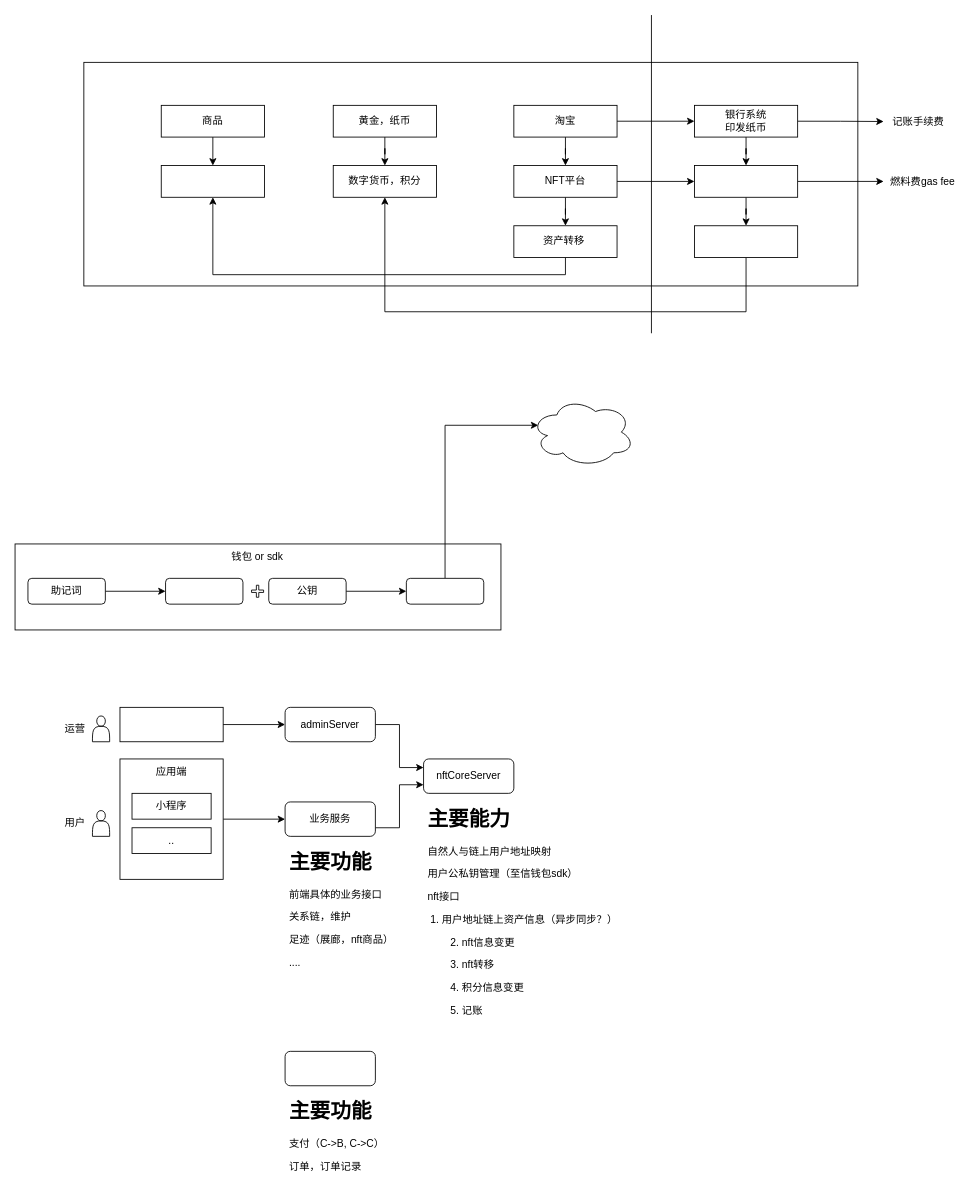
The diagram is 976 pixels wide and 1195 high, and some of its shapes have lost their labels. Each missing label, with the centre of its shape:
"NFT" goes at (212,181).
"公链和侧链/Layer 2 积分申请" goes at (746,181).
"基础服务" goes at (329,1068).
"私钥" goes at (204,590).
"管理端" goes at (171,724).
"记账" goes at (746,241).
"链上账户地址" goes at (444,590).
